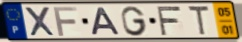A: (90, 6, 122, 36)
F: (155, 5, 183, 36), (52, 6, 79, 37)
G: (120, 5, 149, 37)
T: (186, 5, 211, 37)
X: (23, 6, 58, 38)
